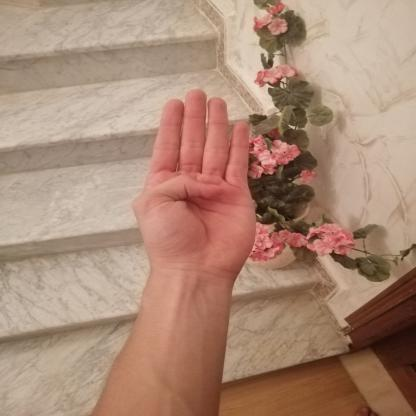KAAF: (122, 80, 272, 288)
